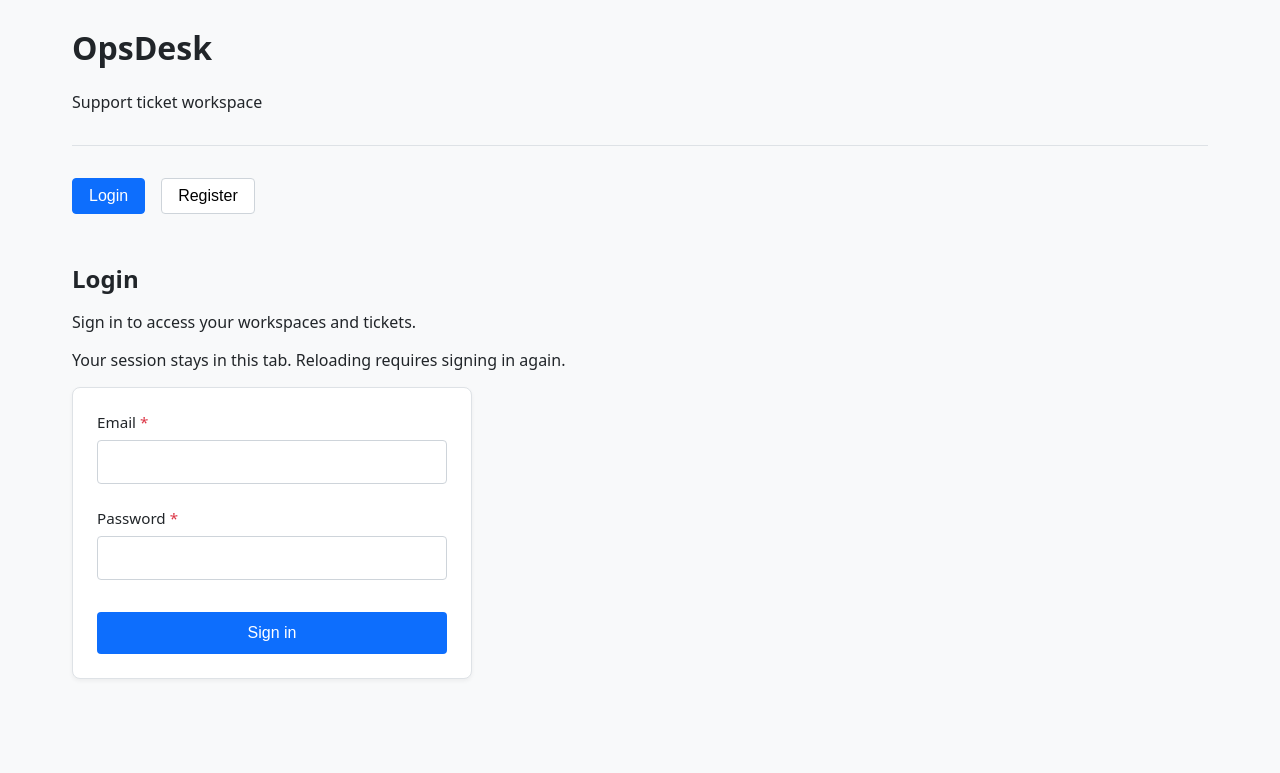
Scenario: successful registration offers login without silently creating a session
Click the button "Register": [208, 196] box [161,178,255,214]
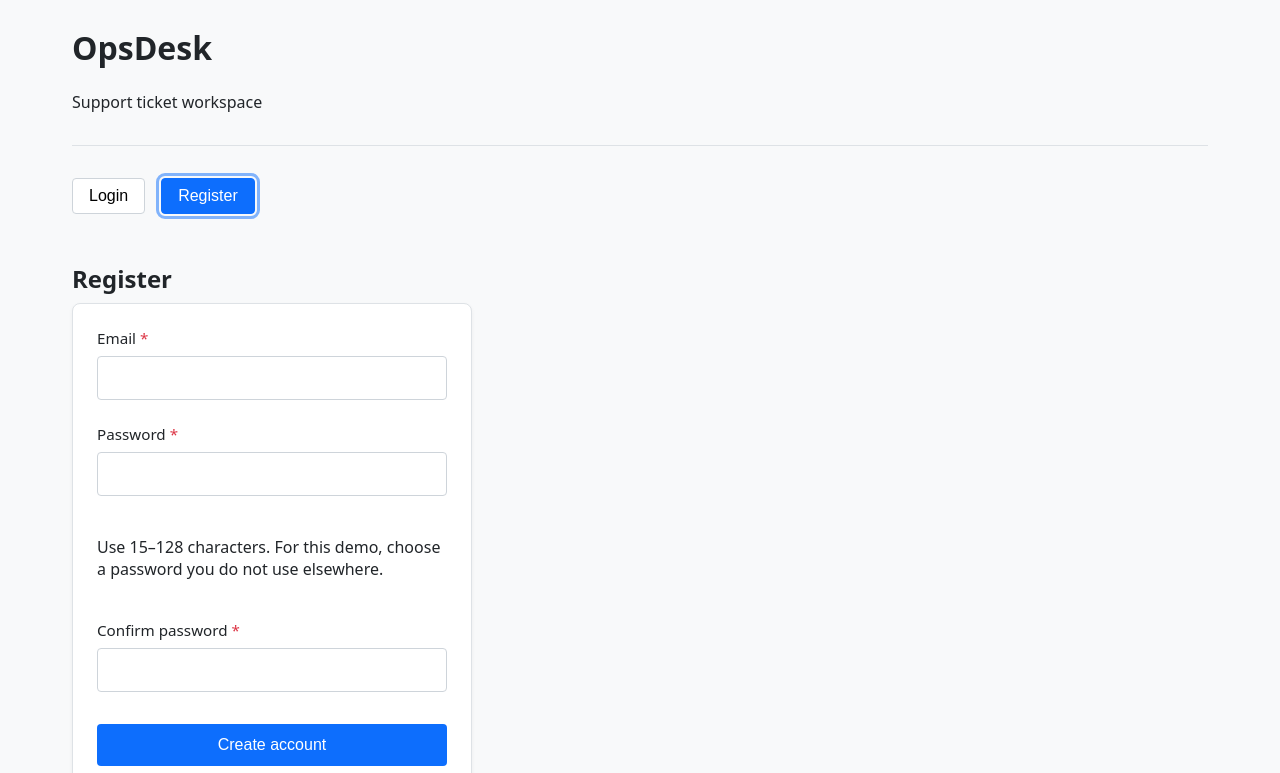
In the field labelled "Email *": [272, 378] box [97,356,447,400], type "demo@example.com"
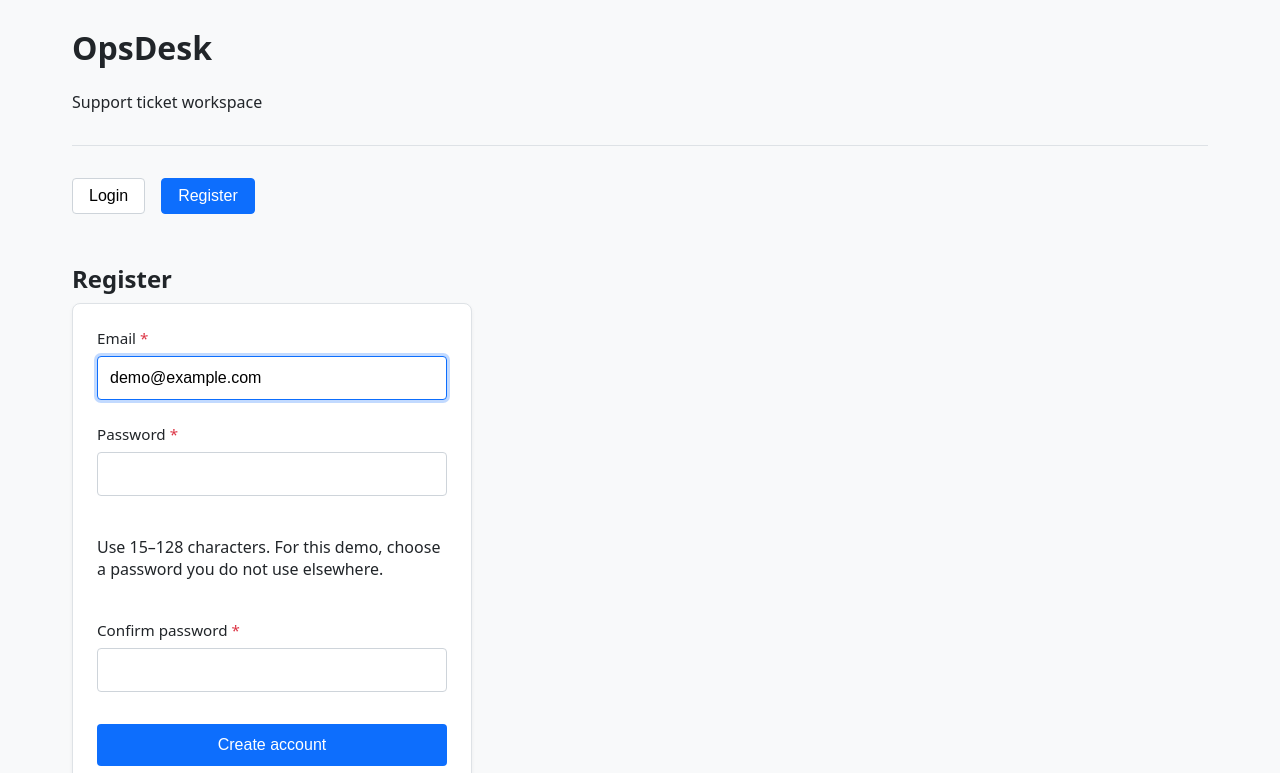
In the password field labelled "Password *": [272, 474] box [97,452,447,496], type "demo-password-123"
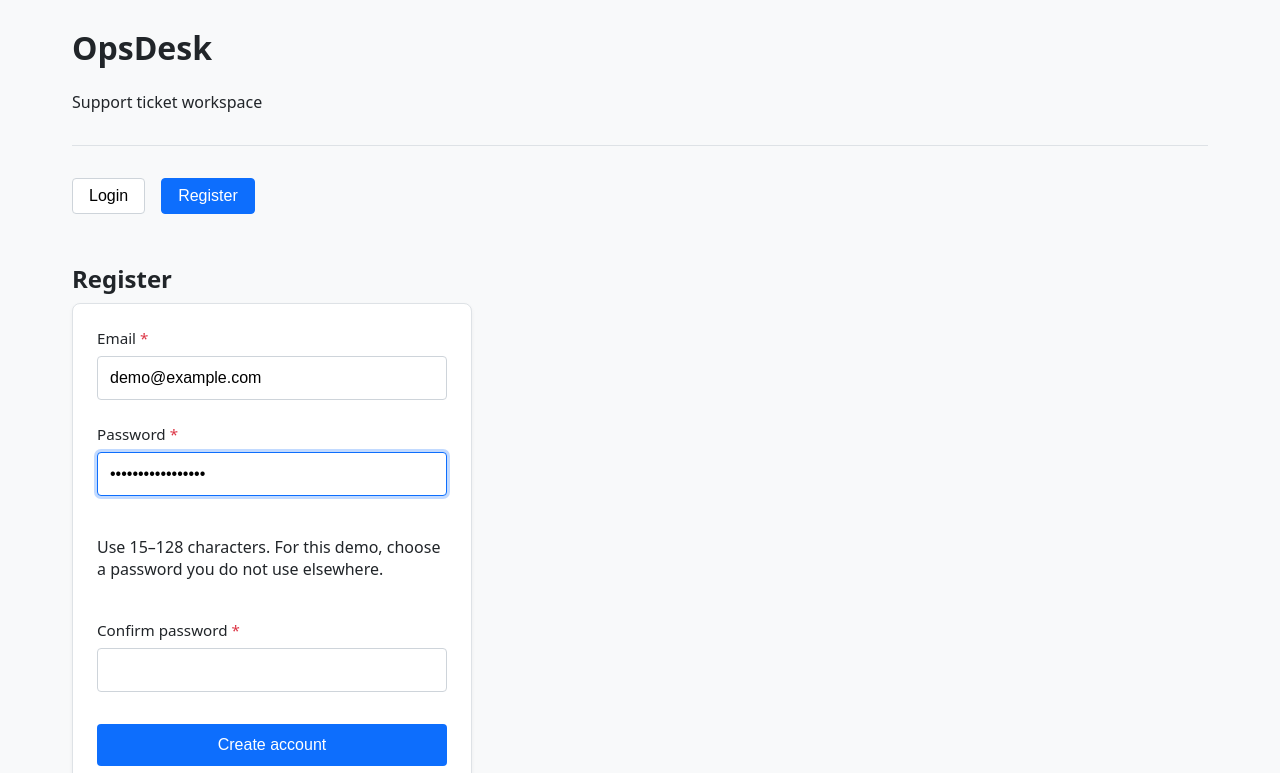
In the password field labelled "Confirm password *": [272, 670] box [97,648,447,692], type "demo-password-123"
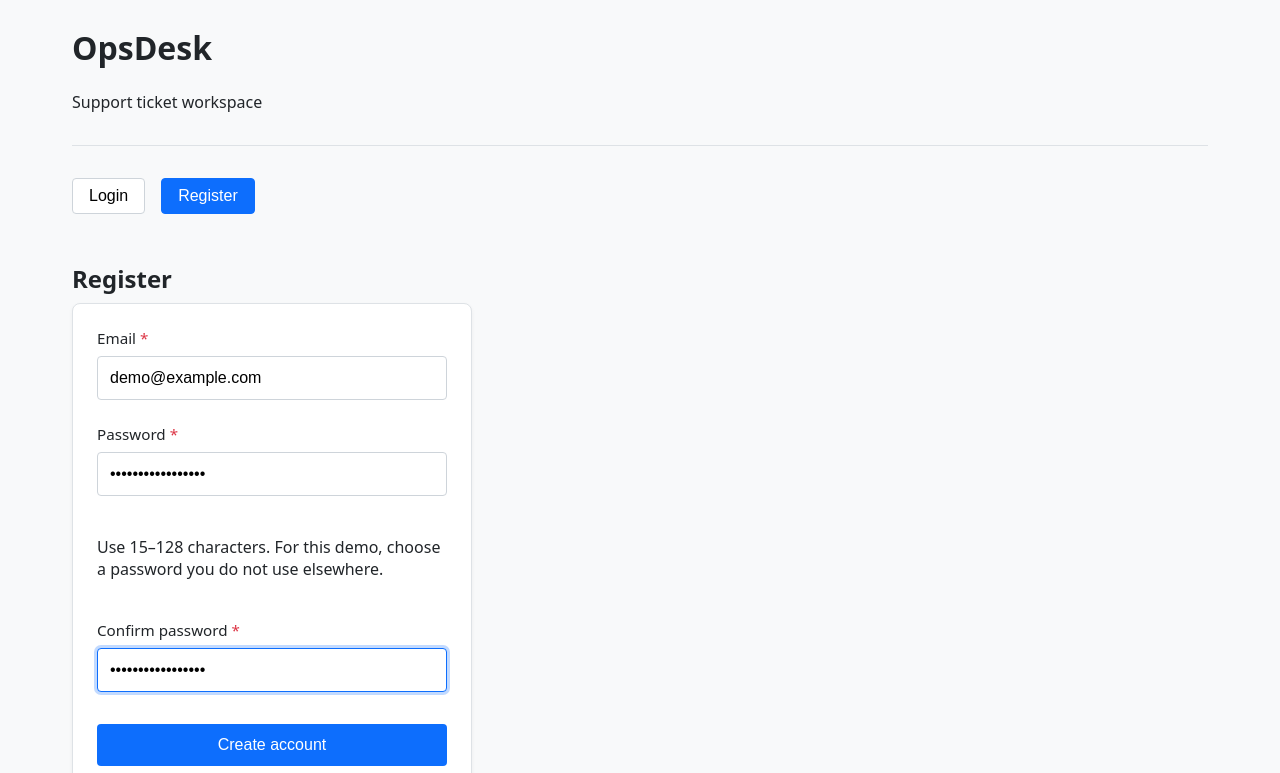
Click the button "Create account": [272, 745] box [97,724,447,766]
(page scrolled)
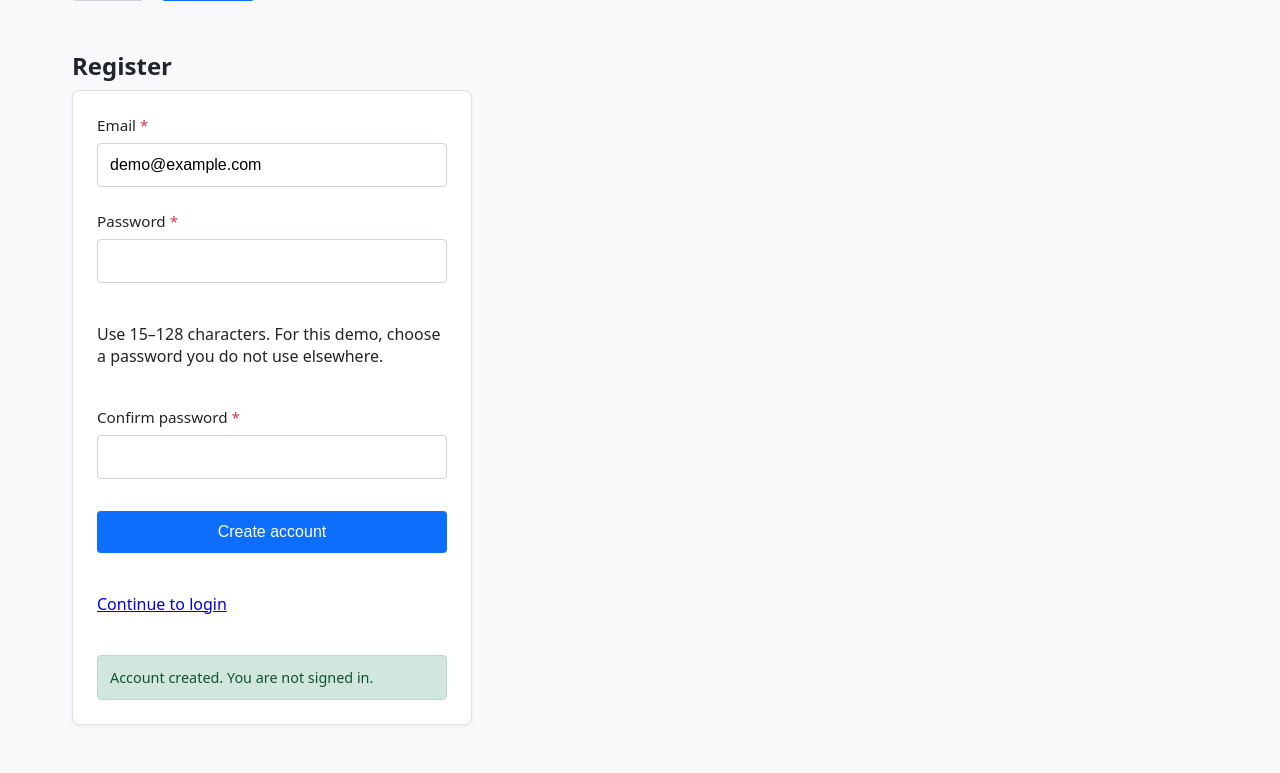
Expected: the text "workspaces" is not shown
Expected: the message reads "Account created. You are not signed in.", [110,668,373,687]
Expected: the password field labelled "Password *" is empty, [97,239,447,283]
Click the link "Continue to login": [162, 604] box [97,593,227,615]
(page scrolled)
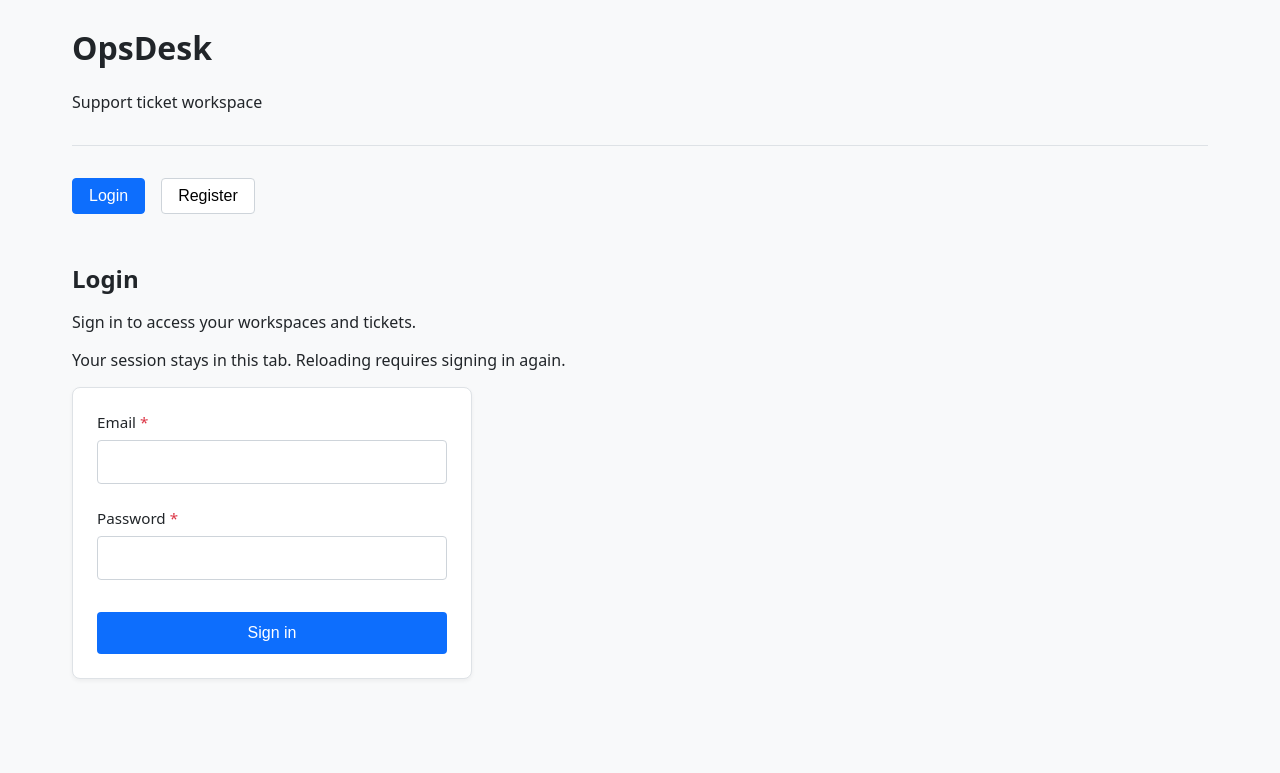
Expected: the heading "Login" is shown, [72,262,139,295]
